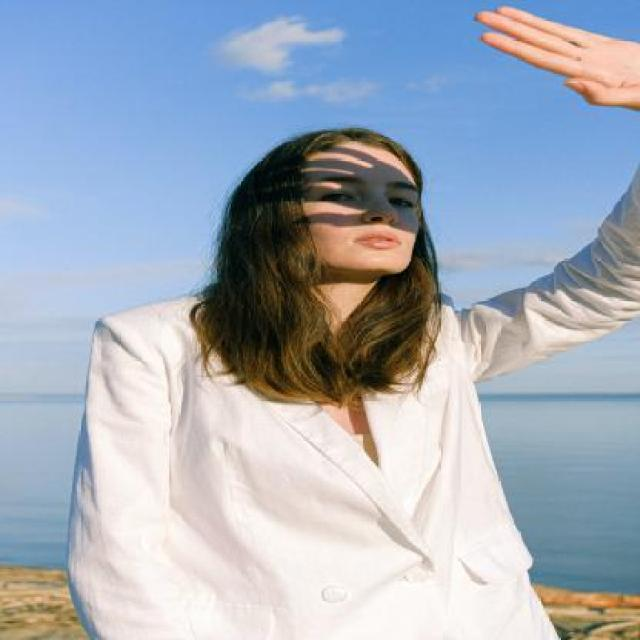closed-mouth: (346, 224, 403, 252)
